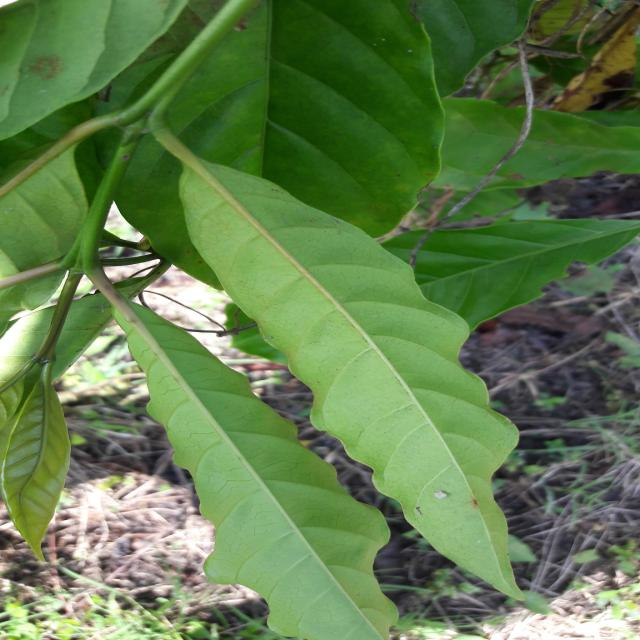Sanas: (161, 132, 548, 611)
